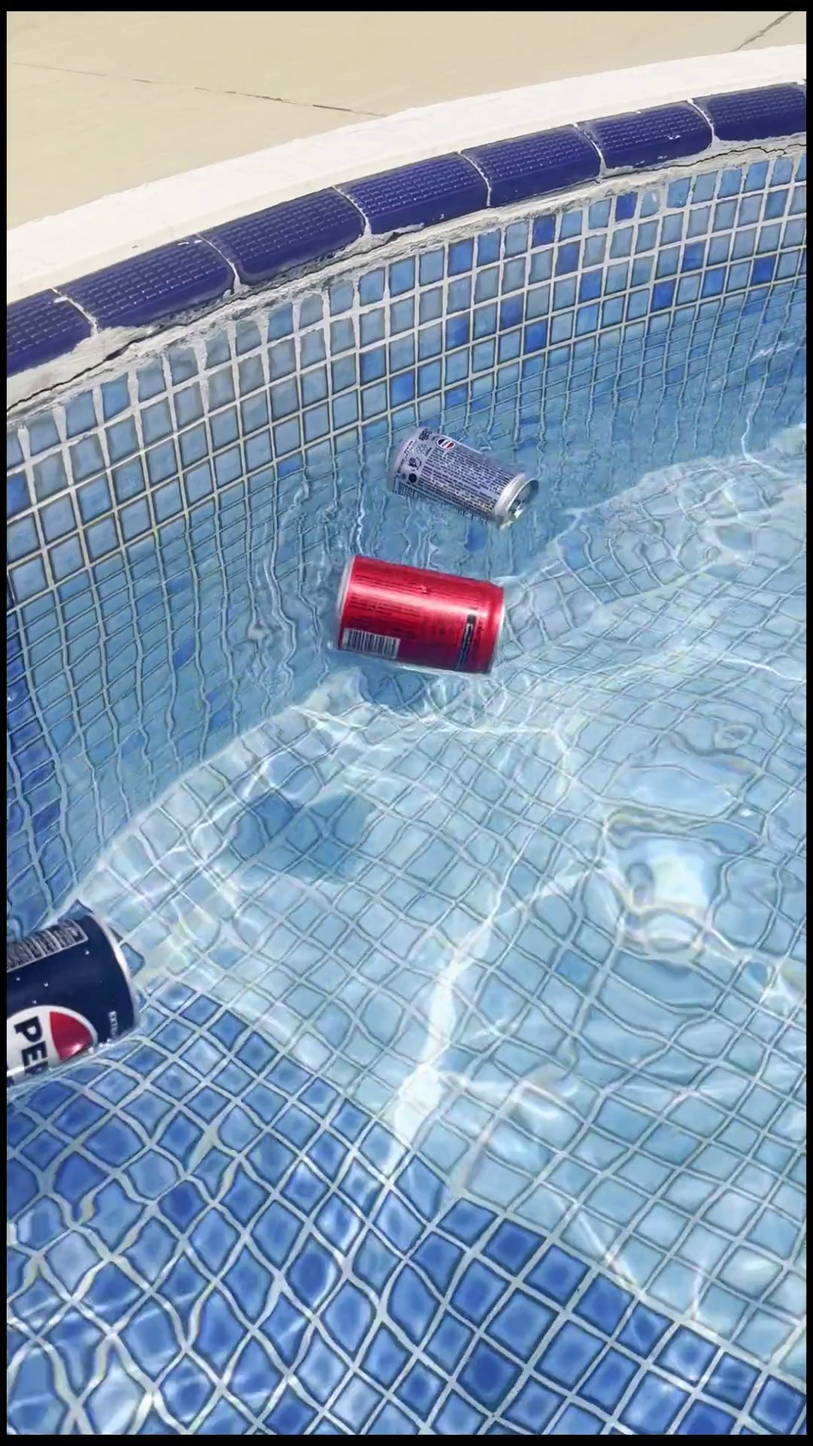debris: (331, 512, 506, 713), (386, 376, 543, 567), (8, 880, 139, 1103)
